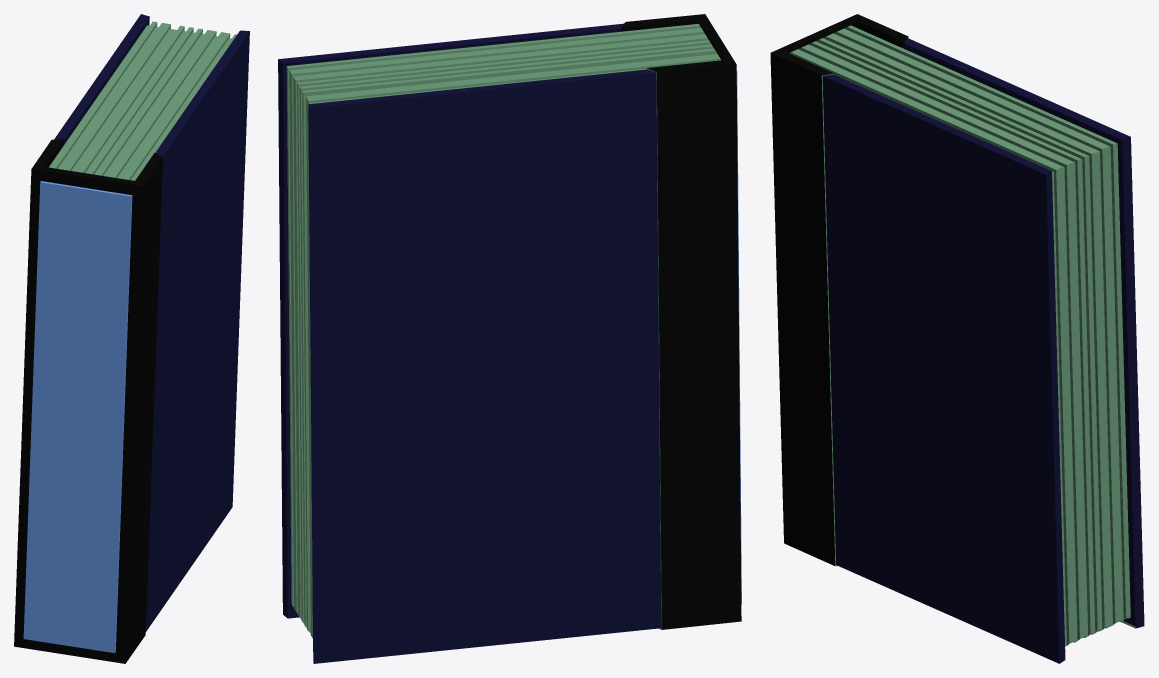
File: SecondShelfBook5.fbx
3 renders of one model, left to right at view 1: azimuth 30°, elevation 25°; view 2: azimuth 150°, elevation 25°; view 3: azimuth 270°, elevation 25°, orthographic. The views are drawn at different scales.
Visible parts, largest first — view 1: SmallBook.008; view 2: SmallBook.008; view 3: SmallBook.008.
Boxes of the visible parts, x1,y1,x2,y2 form: SmallBook.008: (14, 14, 249, 663); SmallBook.008: (278, 14, 741, 663); SmallBook.008: (770, 14, 1144, 663).
Size of the model in its own units: 104 by 150 by 102.
